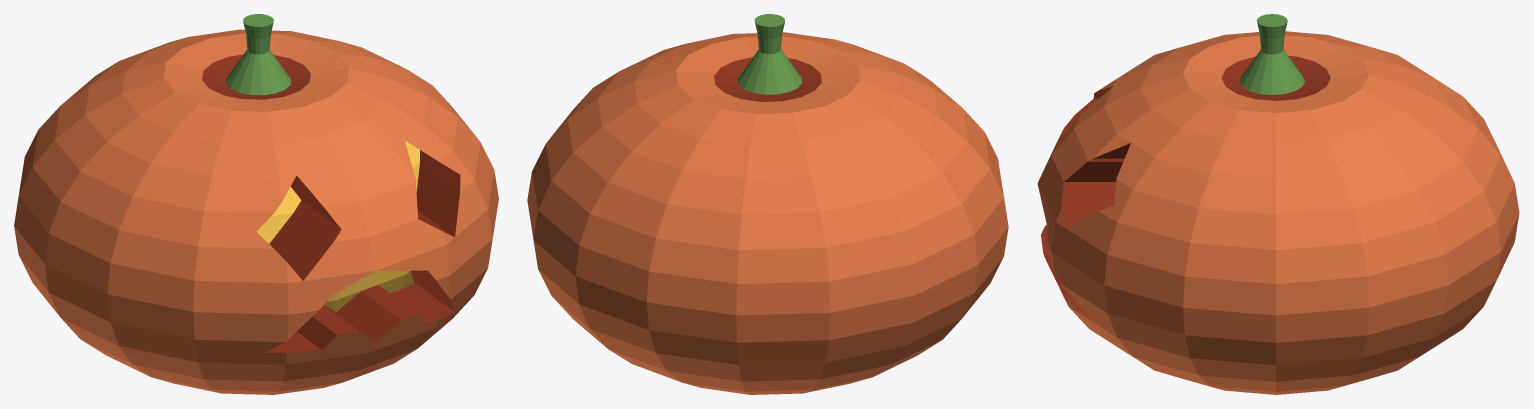
The model's file is abobora3.fbx.
The picture shows the model from 3 angles, left to right: view 1: azimuth 30°, elevation 25°; view 2: azimuth 150°, elevation 25°; view 3: azimuth 270°, elevation 25°; orthographic projection.
Visible parts, largest first — view 1: Sphere.002; view 2: Sphere.002; view 3: Sphere.002.
Boxes of the visible parts, bbox=[...] form: Sphere.002: bbox=[14, 14, 498, 394]; Sphere.002: bbox=[527, 14, 1008, 394]; Sphere.002: bbox=[1037, 14, 1519, 394].
Size of the model in its own units: 649 by 504 by 643.
